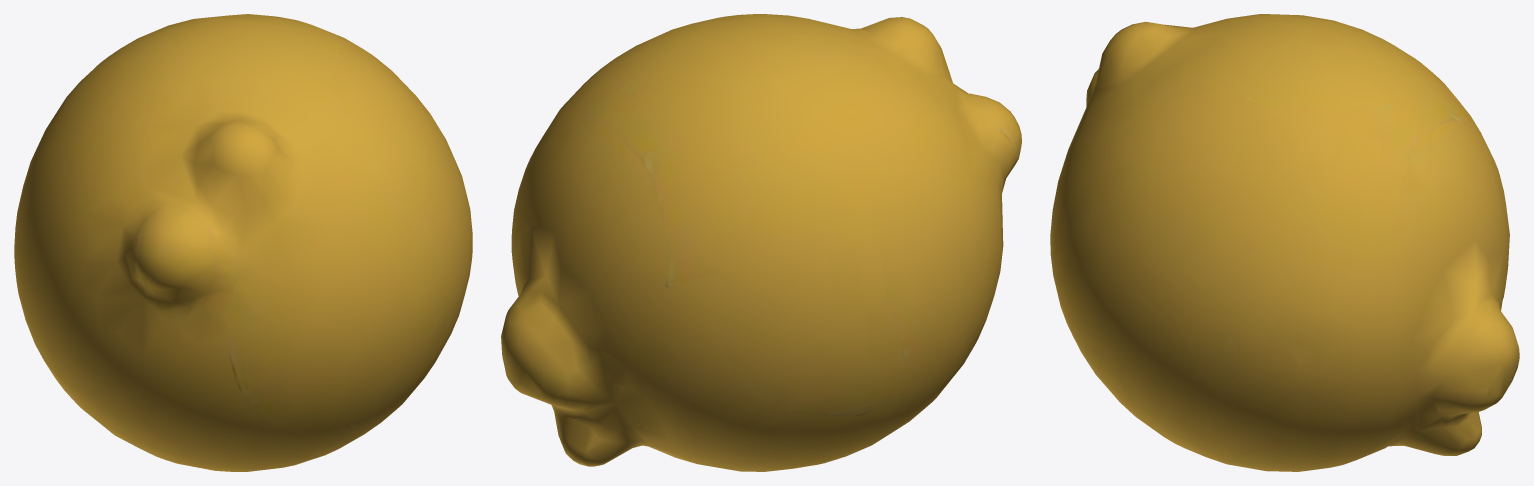
The picture shows the model from 3 angles, left to right: view 1: azimuth 30°, elevation 25°; view 2: azimuth 150°, elevation 25°; view 3: azimuth 270°, elevation 25°; orthographic projection. The views are drawn at different scales.
Visible parts, largest first — view 1: material; view 2: material; view 3: material.
Part boxes in pixels (<box>): material: <box>14,14,472,471</box>; material: <box>501,14,1021,471</box>; material: <box>1050,14,1519,471</box>.
Size of the model in its own units: 1 by 0.953 by 0.9945.
Materials: 1 (1 with a texture image).
